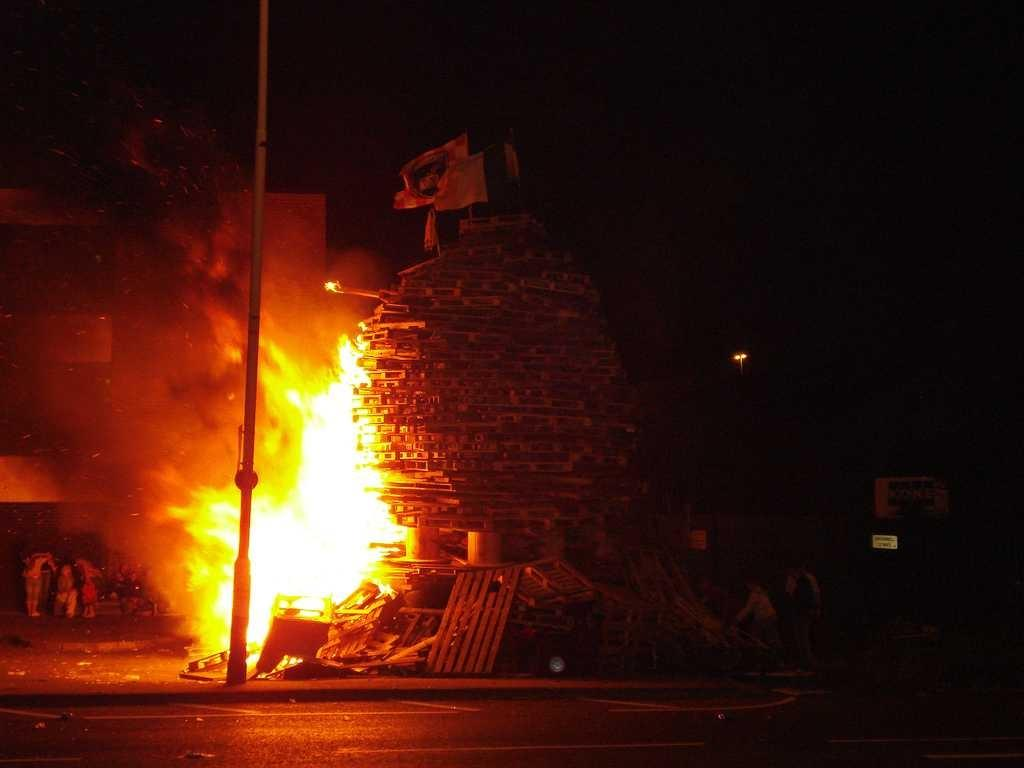fire: (256, 502, 358, 592), (302, 398, 362, 494)
smoke: (64, 288, 194, 470)
